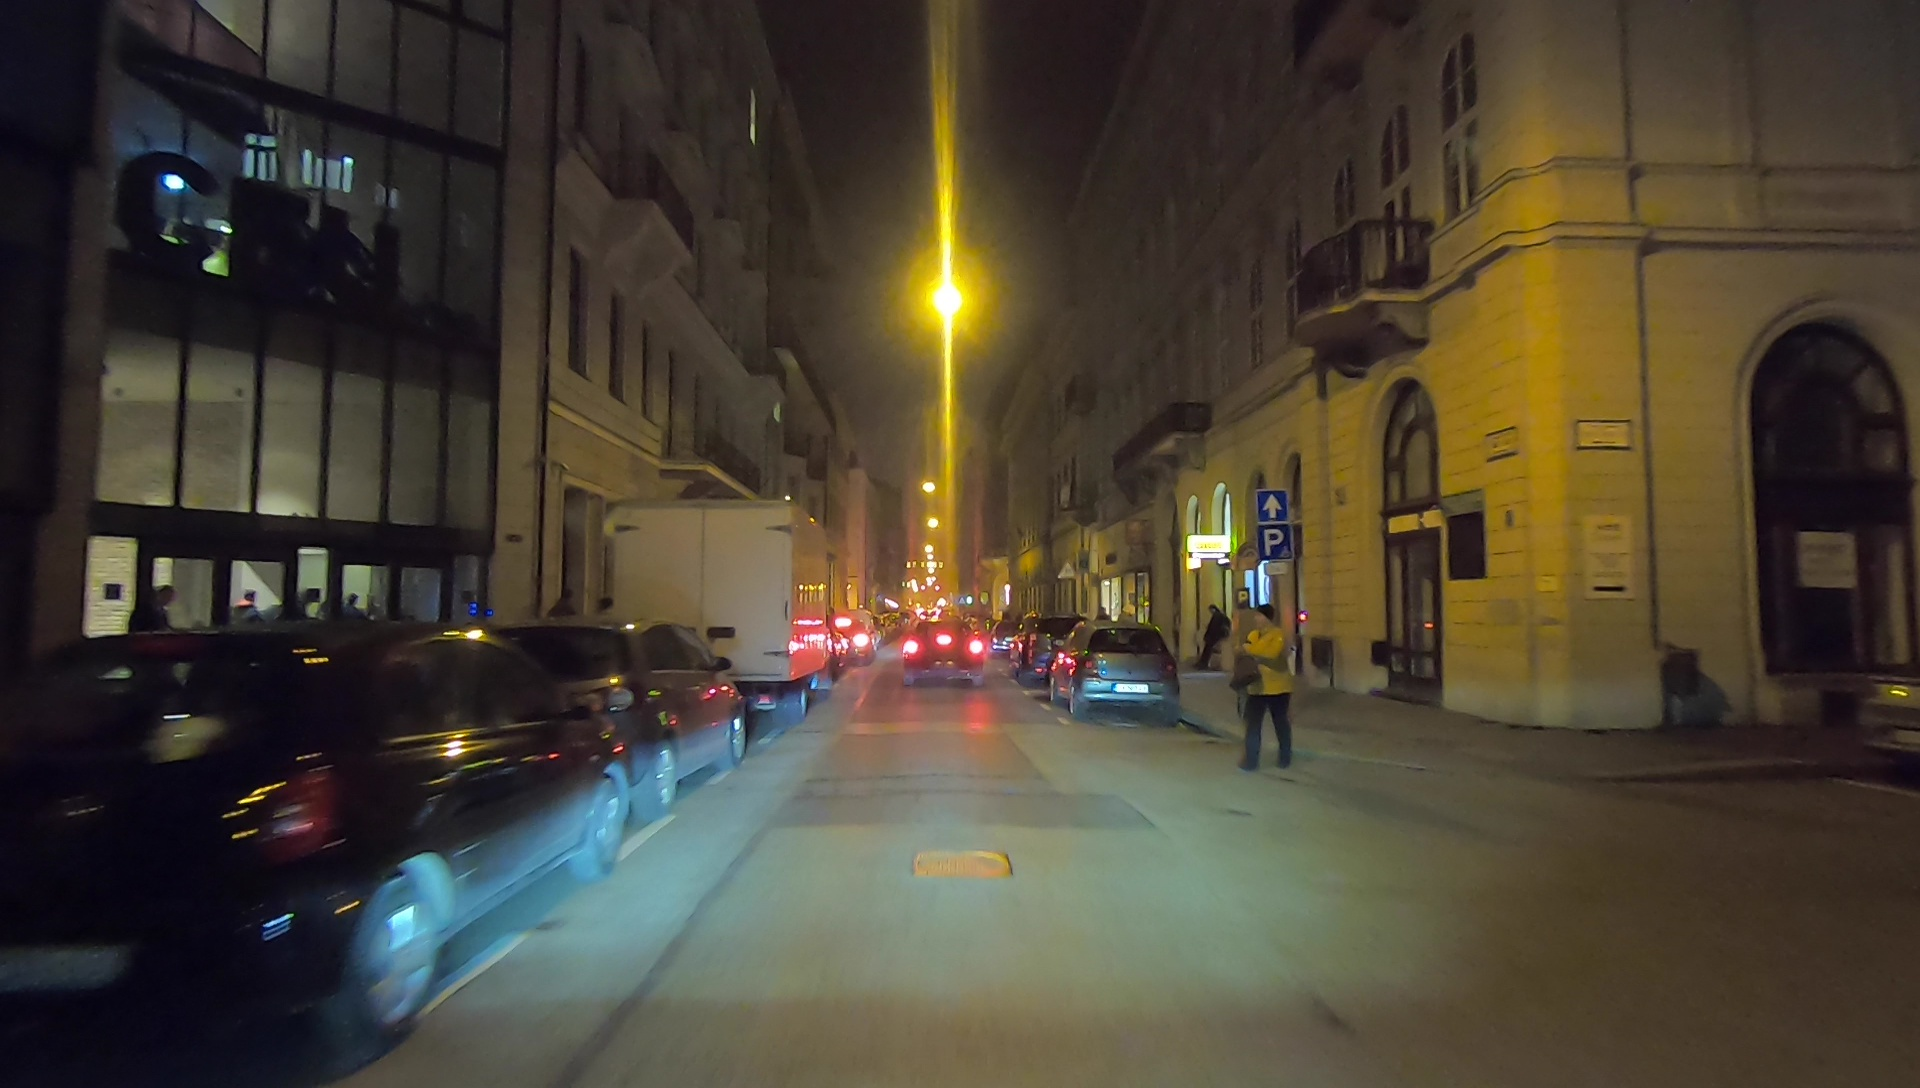person: (1234, 608, 1301, 773), (1197, 606, 1228, 676)
